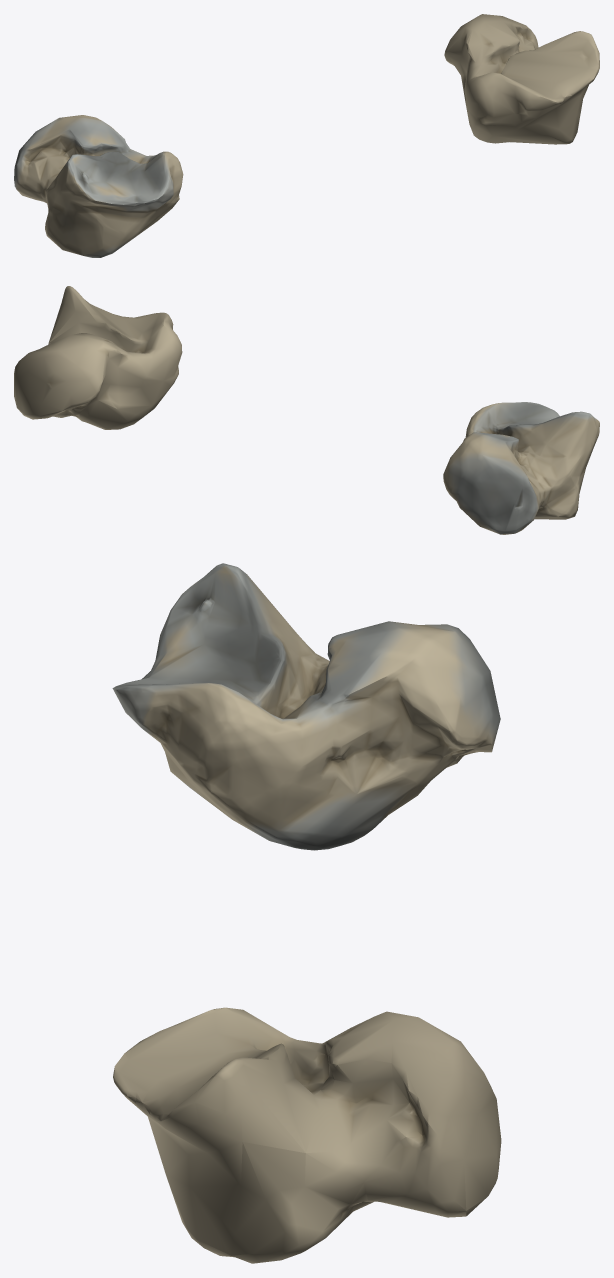
Rendered from talus.glb.
3 renders of one model, top to bottom at view 1: azimuth 30°, elevation 25°; view 2: azimuth 150°, elevation 25°; view 3: azimuth 270°, elevation 25°, orthographic. The views are drawn at different scales.
Visible parts, largest first — view 1: FJ3280, FJ3385, talus__caput-proc-posterior; view 2: FJ3280, FJ3385, talus__caput-proc-posterior, talus__collum-sulcus; view 3: FJ3280, FJ3385, talus__collum-sulcus, talus__caput-proc-posterior, talus__trochlea.
Boxes of the visible parts, x1=… form: FJ3280: x1=444, y1=14, x2=599, y2=144; FJ3385: x1=14, y1=115, x2=183, y2=255; talus__caput-proc-posterior: x1=17, y1=118, x2=173, y2=211; FJ3280: x1=14, y1=286, x2=182, y2=429; FJ3385: x1=446, y1=402, x2=599, y2=534; talus__caput-proc-posterior: x1=448, y1=402, x2=559, y2=505; talus__collum-sulcus: x1=443, y1=433, x2=577, y2=526; FJ3280: x1=113, y1=1007, x2=501, y2=1263; FJ3385: x1=143, y1=563, x2=490, y2=831; talus__collum-sulcus: x1=264, y1=642, x2=500, y2=794; talus__caput-proc-posterior: x1=112, y1=624, x2=493, y2=735; talus__trochlea: x1=183, y1=782, x2=401, y2=850.
Bounding box in the file's own units: 180 × 34.42 × 56.92.
